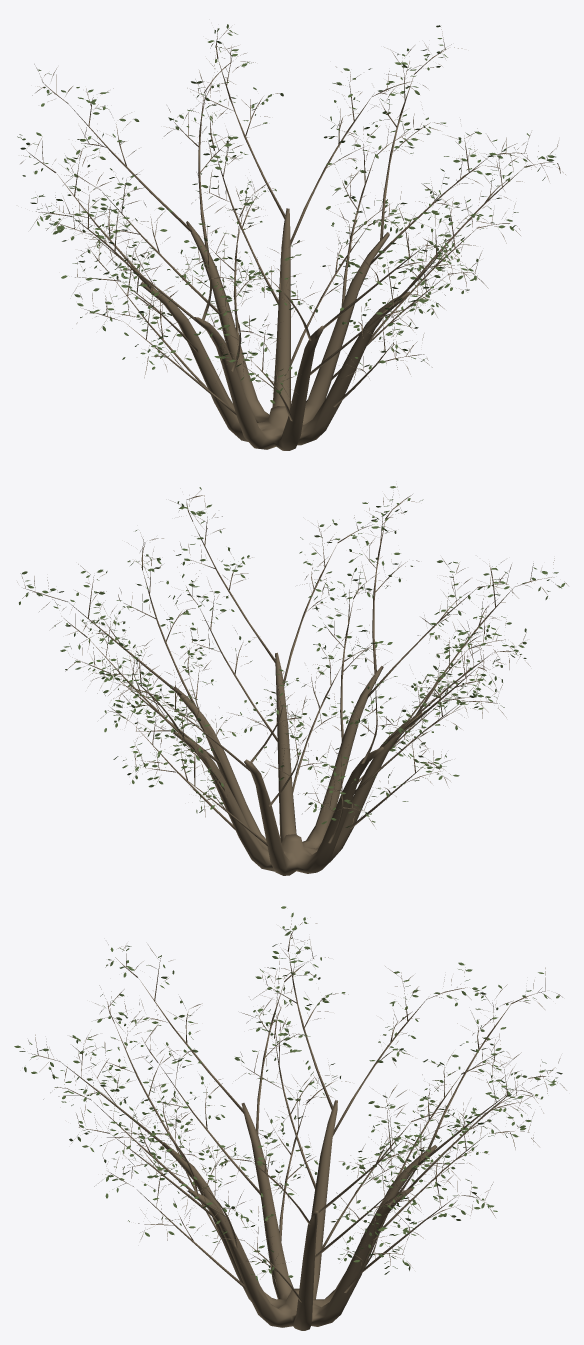
Rendered from Lentisque_1_Niveau0.fbx.
The picture shows the model from 3 angles, top to bottom: view 1: azimuth 30°, elevation 25°; view 2: azimuth 150°, elevation 25°; view 3: azimuth 270°, elevation 25°; orthographic projection. The views are drawn at different scales.
Parts seen in each view (by area): view 1: Lentisque_1_Niveau0; view 2: Lentisque_1_Niveau0; view 3: Lentisque_1_Niveau0.
Boxes of the visible parts, left/top/right/bottom form: Lentisque_1_Niveau0: left=17, top=24, right=565, bottom=450; Lentisque_1_Niveau0: left=17, top=486, right=568, bottom=875; Lentisque_1_Niveau0: left=14, top=906, right=566, bottom=1330.
Size of the model in its own units: 260 by 160 by 259.
